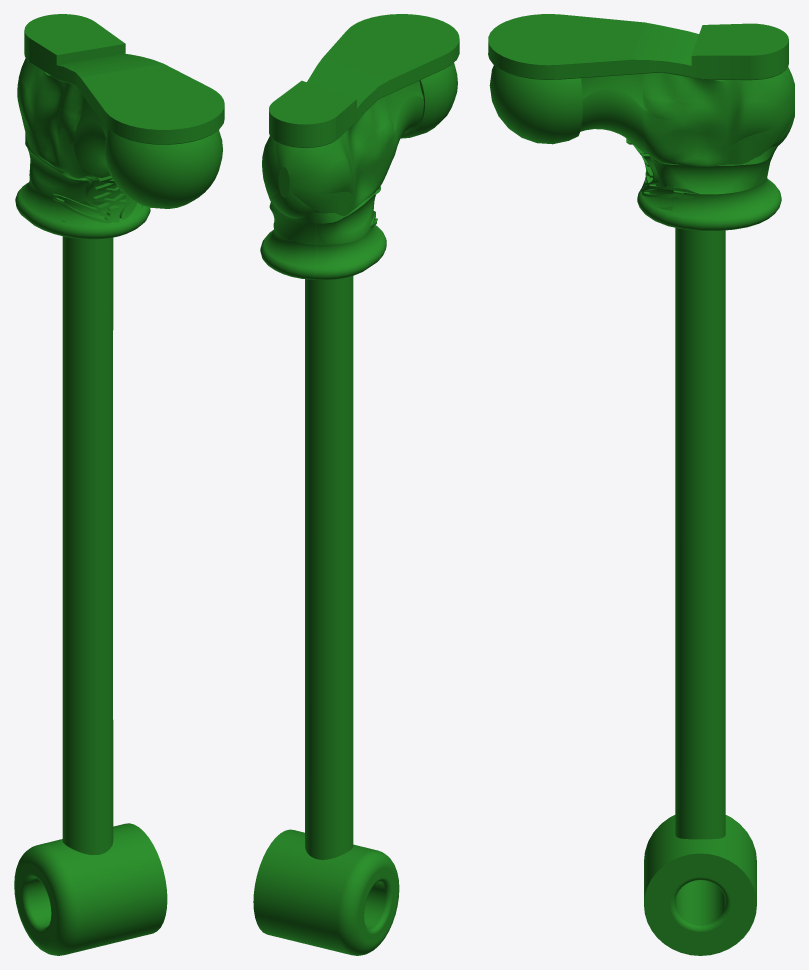
Rendered from SHOE.fbx.
The picture shows the model from 3 angles, left to right: view 1: azimuth 30°, elevation 25°; view 2: azimuth 150°, elevation 25°; view 3: azimuth 270°, elevation 25°; orthographic projection. The views are drawn at different scales.
Visible parts, largest first — view 1: SHOE; view 2: SHOE; view 3: SHOE.
Boxes of the visible parts, x1,y1,x2,y2 form: SHOE: (14, 14, 224, 955); SHOE: (253, 14, 459, 955); SHOE: (488, 14, 794, 955).
Bounding box in the file's own units: 1.19 × 9.26 × 2.89.
